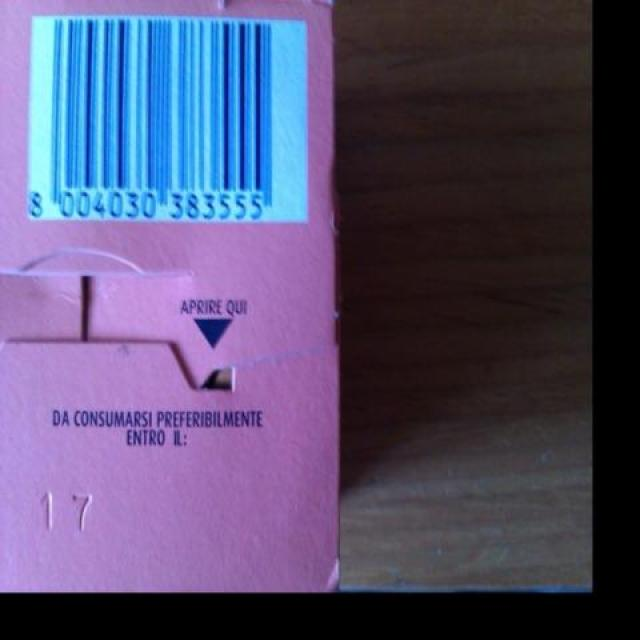Barcode: (27, 14, 309, 225)
